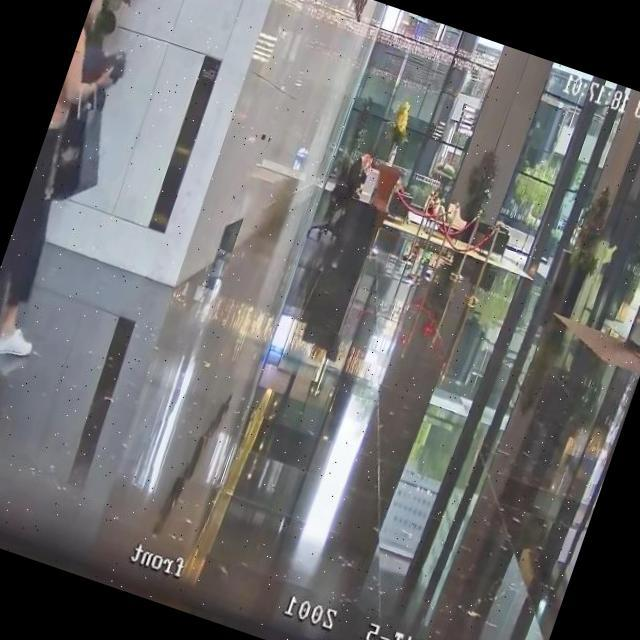person: (0, 0, 160, 366), (338, 146, 376, 207), (420, 188, 443, 230)
